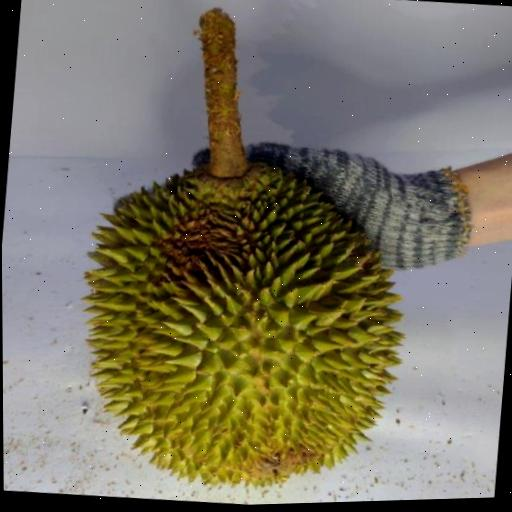rot: (43, 0, 502, 511)
